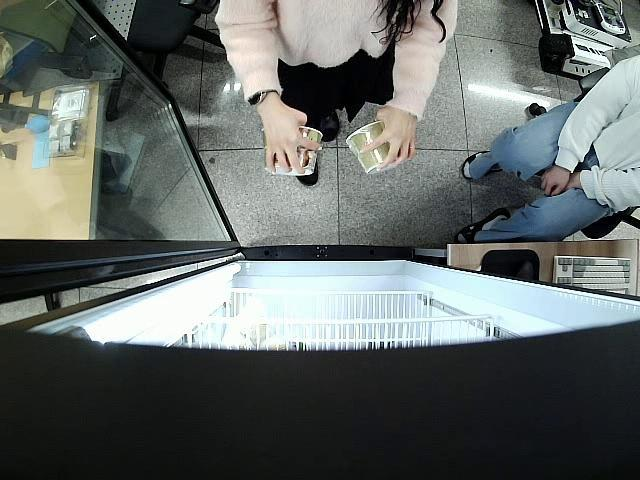03_chapagetti_L: (346, 119, 401, 174), (262, 126, 322, 176)
